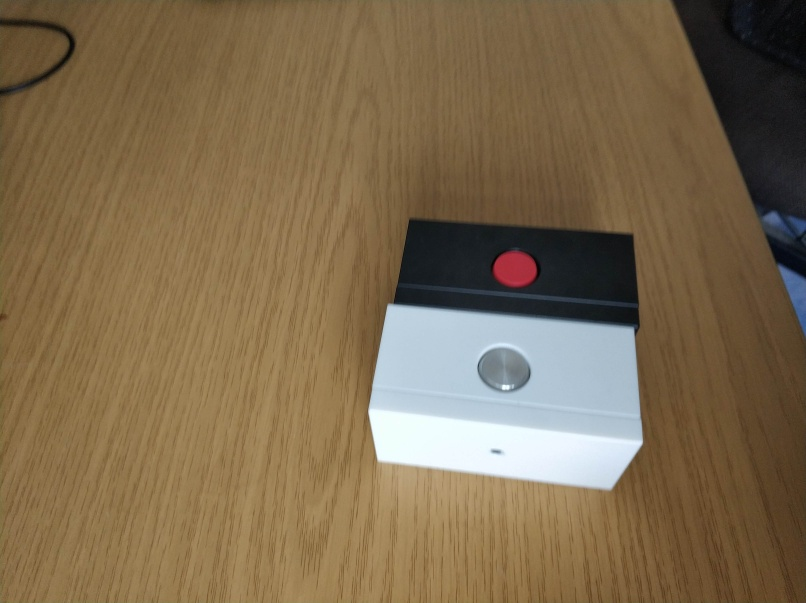black+black+red: (393, 214, 641, 330)
white+white+silver: (365, 301, 647, 494)
